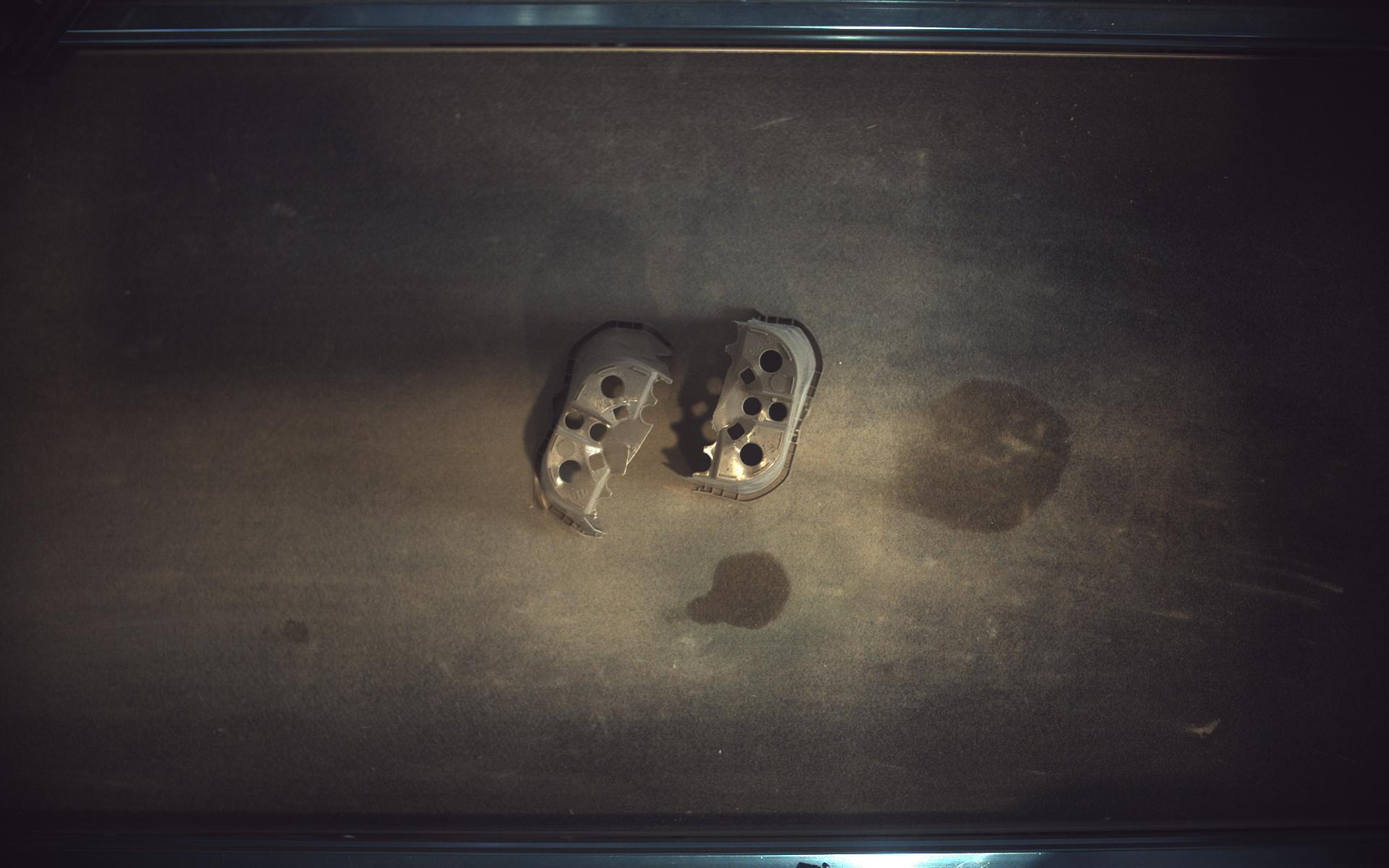general_w: (535, 321, 672, 537), (690, 311, 824, 501)
